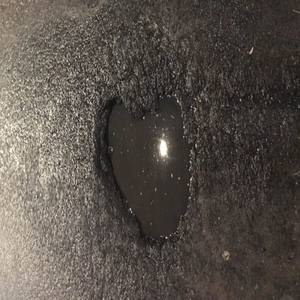pothole: (97, 90, 196, 249)
